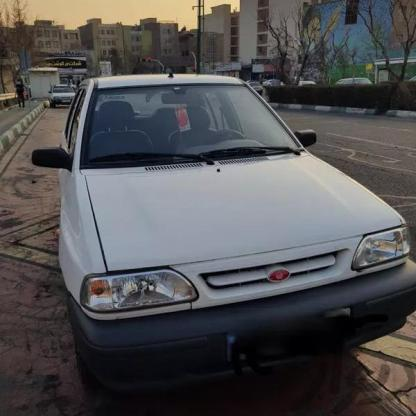Car: (49, 70, 416, 361), (48, 82, 77, 108), (248, 81, 264, 98), (260, 78, 286, 86)
